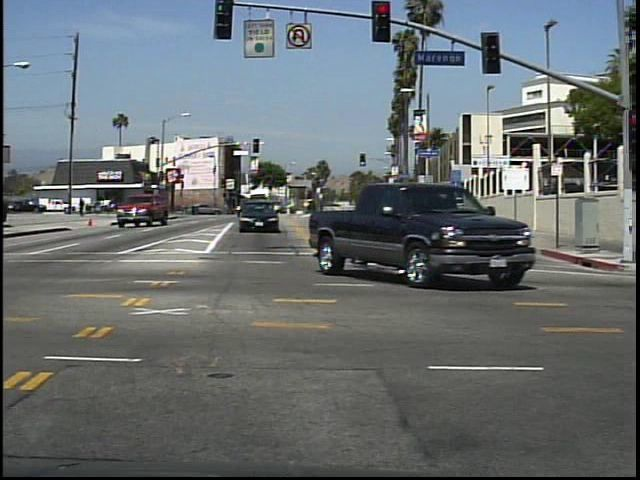person: (78, 194, 91, 219)
